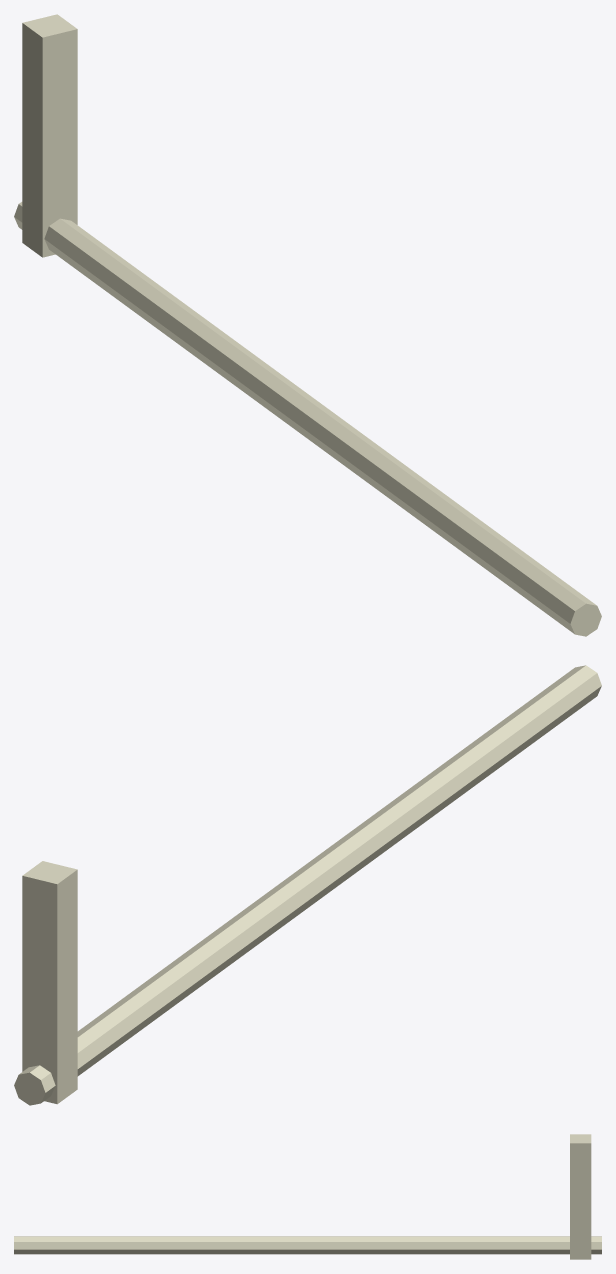
File: ac_drain.obj
3 renders of one model, top to bottom at view 1: azimuth 30°, elevation 25°; view 2: azimuth 150°, elevation 25°; view 3: azimuth 270°, elevation 25°, orthographic. The views are drawn at different scales.
Parts seen in each view (by area): view 1: ac_drain; view 2: ac_drain; view 3: ac_drain.
Part boxes in pixels (x1,y1,x2,y2): ac_drain: [14, 14, 601, 636]; ac_drain: [14, 665, 601, 1105]; ac_drain: [14, 1134, 601, 1259].
Bounding box in the file's own units: 0.04 × 0.24 × 1.1.
